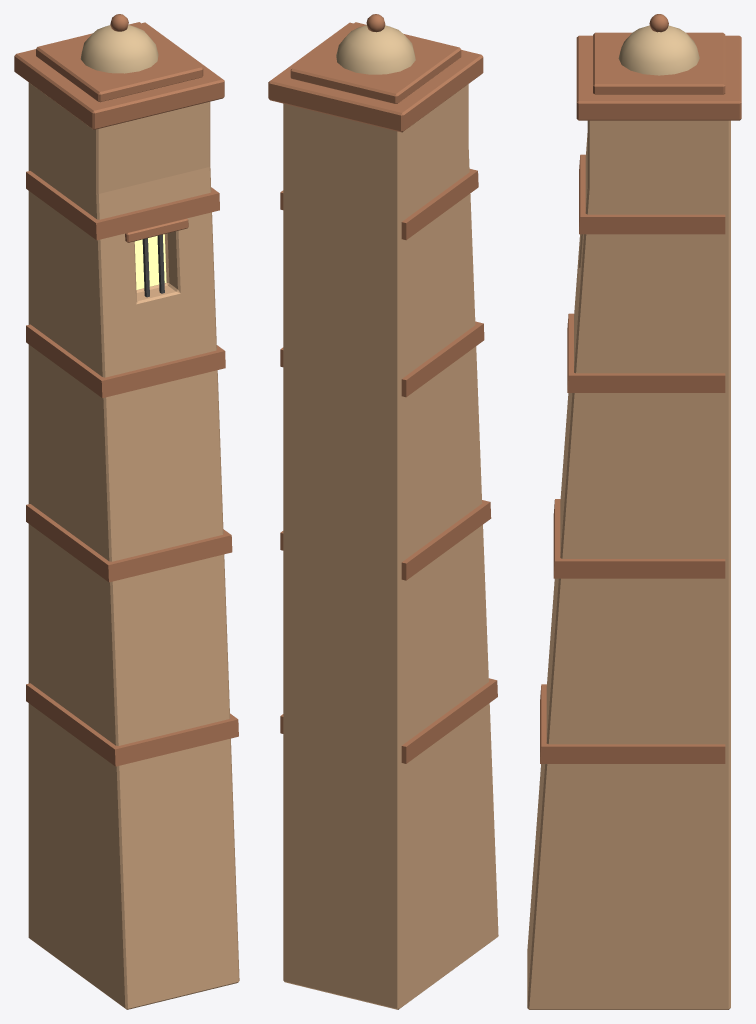
Rendered from terrace_wall_pillar.fbx.
The picture shows the model from 3 angles, left to right: view 1: azimuth 30°, elevation 25°; view 2: azimuth 150°, elevation 25°; view 3: azimuth 270°, elevation 25°; orthographic projection. The views are drawn at different scales.
Visible parts, largest first — view 1: Terrace_Wall_Pillar; view 2: Terrace_Wall_Pillar; view 3: Terrace_Wall_Pillar.
Boxes of the visible parts, left/top/right/bottom form: Terrace_Wall_Pillar: left=14, top=14, right=239, bottom=1009; Terrace_Wall_Pillar: left=268, top=14, right=498, bottom=1009; Terrace_Wall_Pillar: left=527, top=14, right=741, bottom=1009.
Bounding box in the file's own units: 116 × 782 × 157.
